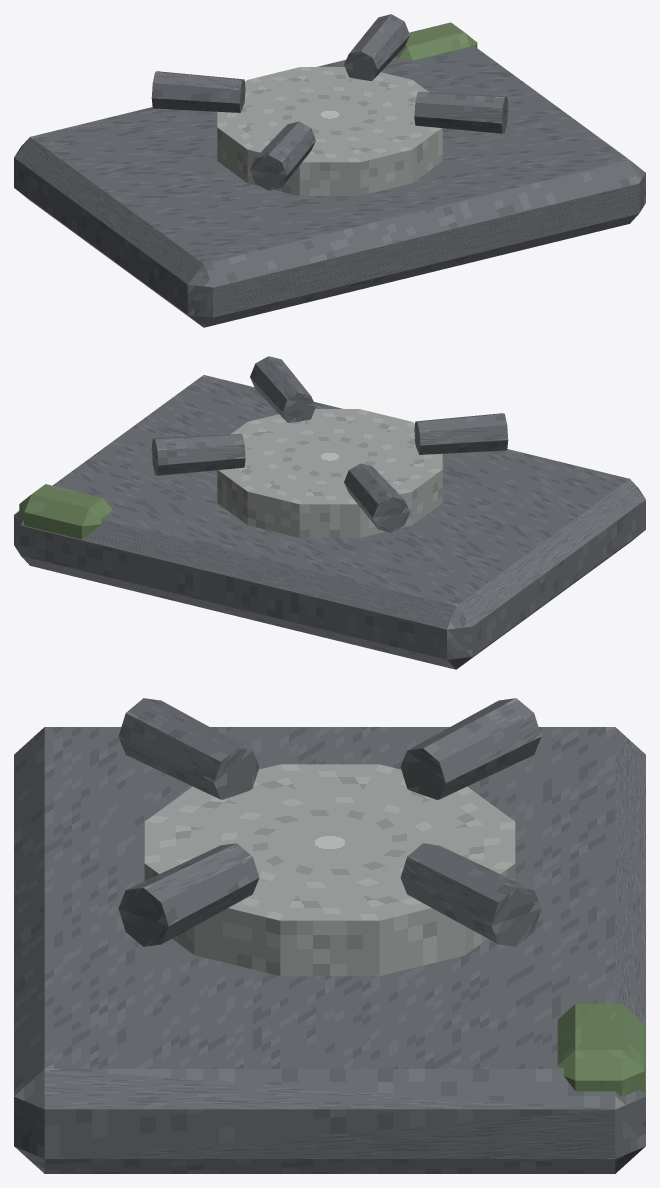
The model's file is propane_cooker.glb.
3 views of the same model, one above another, from view 1: azimuth 30°, elevation 25°; view 2: azimuth 150°, elevation 25°; view 3: azimuth 270°, elevation 25° (orthographic). The views are drawn at different scales.
Parts seen in each view (by area): view 1: block_stove base, block_cooker burner, block_pan support (×4), block_valve cover; view 2: block_stove base, block_cooker burner, block_pan support (×4), block_valve cover; view 3: block_stove base, block_cooker burner, block_pan support (×4), block_valve cover.
Part boxes in pixels (<box>): block_stove base: <box>14,44,645,327</box>; block_cooker burner: <box>217,67,442,195</box>; block_pan support (×4): <box>151,14,508,190</box>; block_valve cover: <box>395,22,477,60</box>; block_stove base: <box>14,375,645,669</box>; block_cooker burner: <box>217,409,442,537</box>; block_pan support (×4): <box>151,356,508,532</box>; block_valve cover: <box>19,484,112,539</box>; block_stove base: <box>14,727,645,1173</box>; block_cooker burner: <box>144,764,515,976</box>; block_pan support (×4): <box>118,698,541,946</box>; block_valve cover: <box>557,1003,644,1096</box>.
Size of the model in its own units: 0.2047 by 0.0545 by 0.1487.
Materials: 1 (1 with a texture image).
